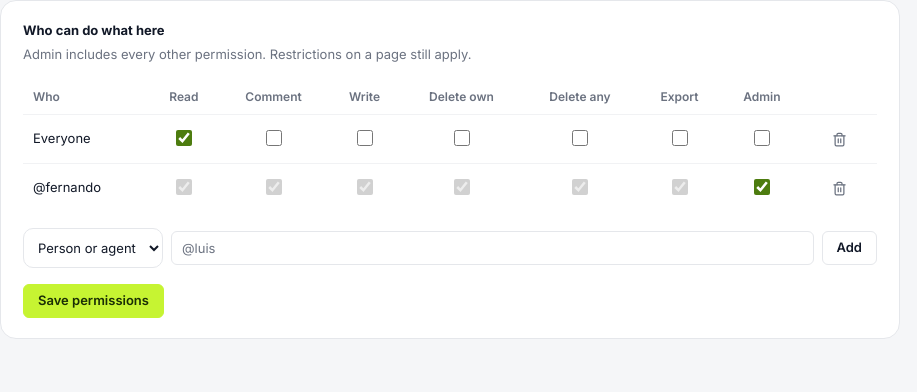
Test case: SpacePermissions › shows why saving failed
Click the button "Save permissions": (94, 301) [23,284,164,318]
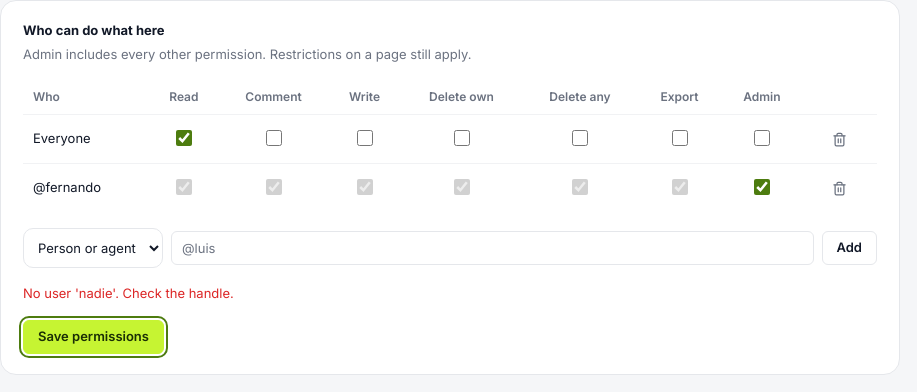
Expected: the message shows "Check the handle", [23,285,234,301]
